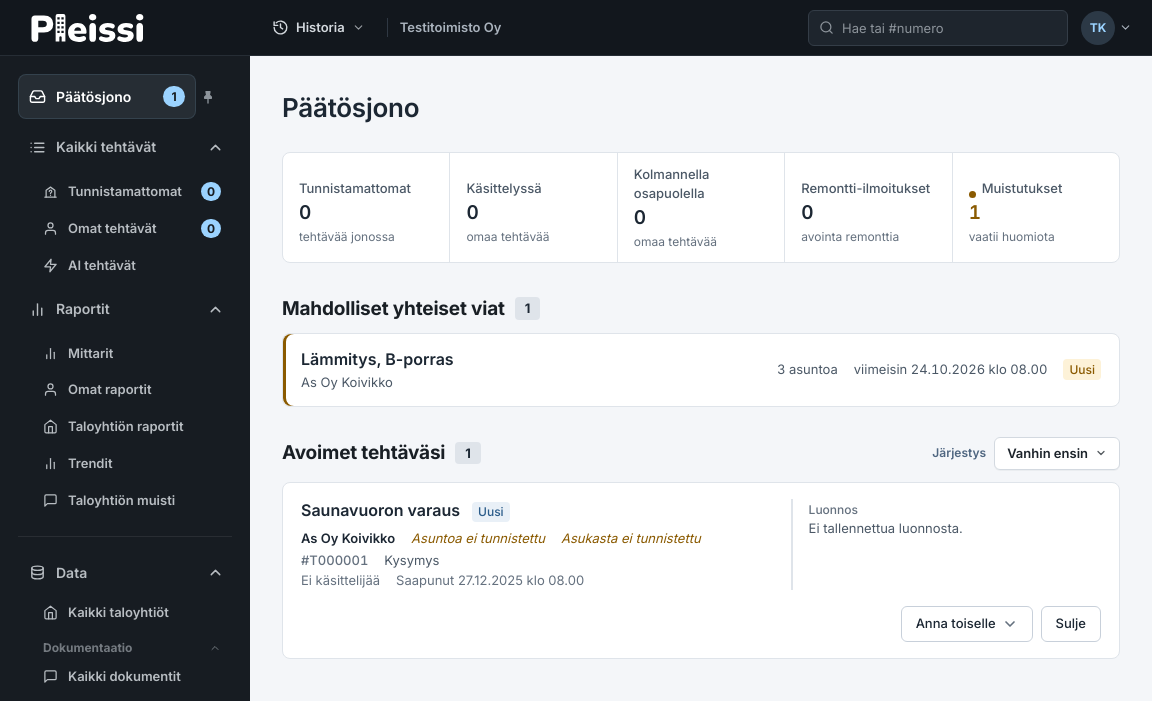
Scenario: sovellus › näyttää päätösjonon yläosassa mahdollisen yhteisen vian ja avaa sen toimenpiteineen
Expected: the heading "Mahdolliset yhteiset viat 1" is shown, 282,297 -> 540,320
Click the button "Lämmitys, B-porras".
click(339, 359)  # box 283,334 -> 1119,406
(page scrolled)
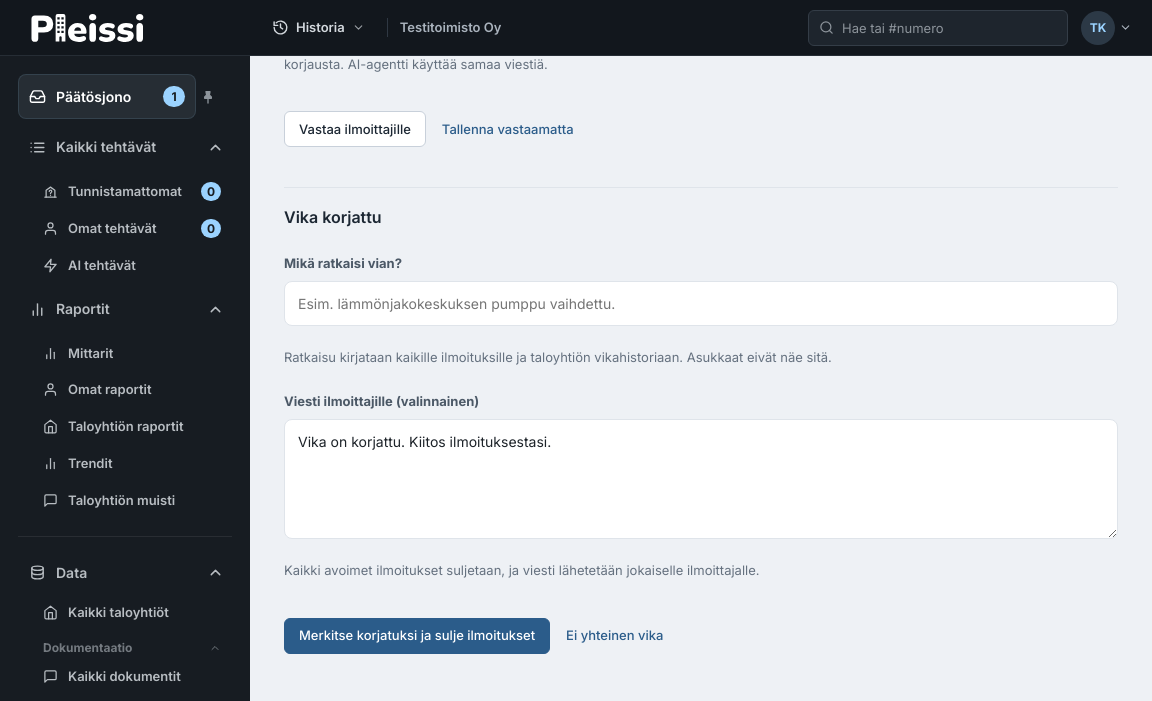
Expected: the button "Merkitse korjatuksi ja sulje ilmoitukset" is shown, 284,618 -> 550,654
